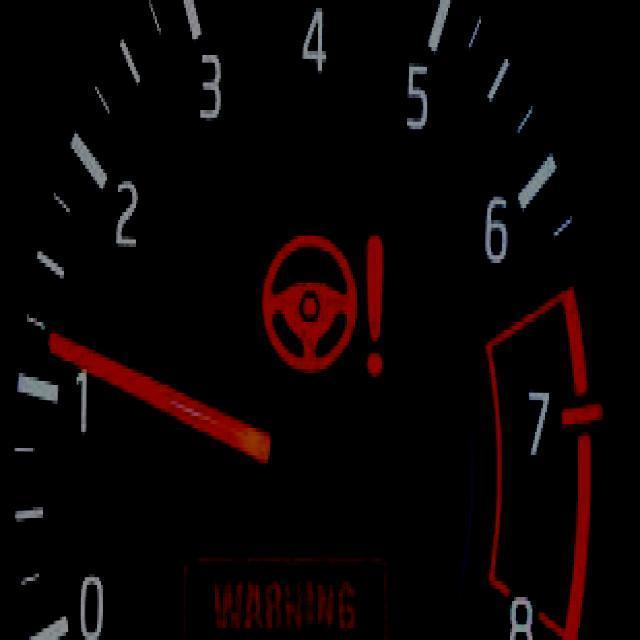Electronic Power Steering: (262, 232, 386, 378)
